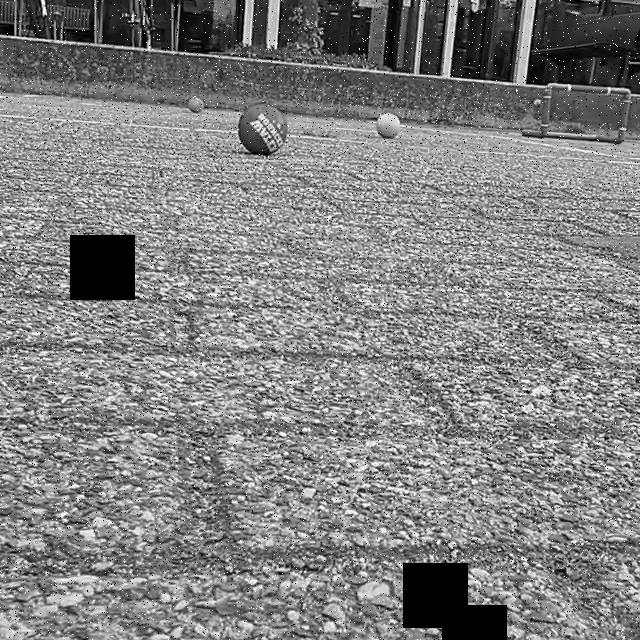ball: (374, 109, 402, 139)
